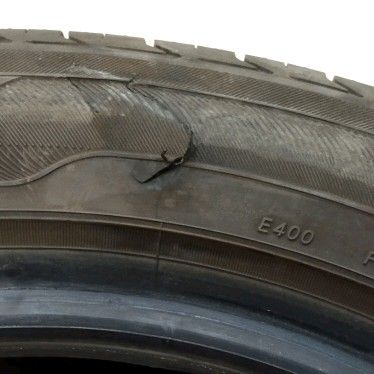cut: (62, 56, 201, 189)
